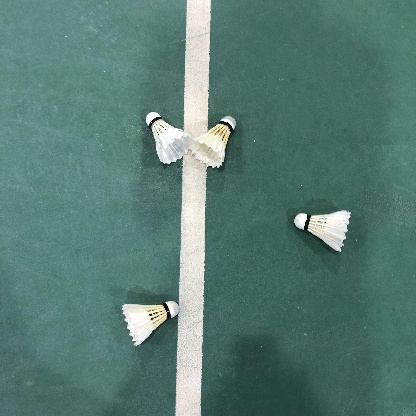ball_single: (122, 301, 179, 346), (189, 116, 236, 169), (294, 210, 351, 253), (146, 112, 192, 164)
